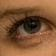eye: (25, 21, 41, 33)
